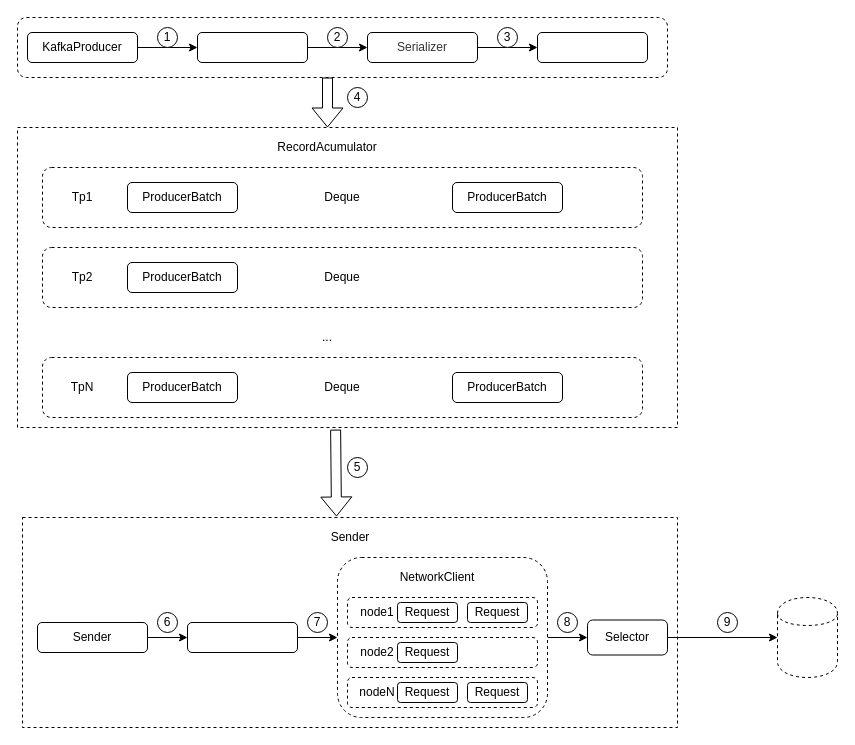
Some shapes in this 855 by 745 pixel diagram are drawn without their labels. The shapes that lost their labels are listed below. From the top down, each one's centre as x and y in pixels, then its label:
[252,47]: Interceptors
[592,47]: Partitioner
[242,637]: ClientRequest
[807,637]: Broker
